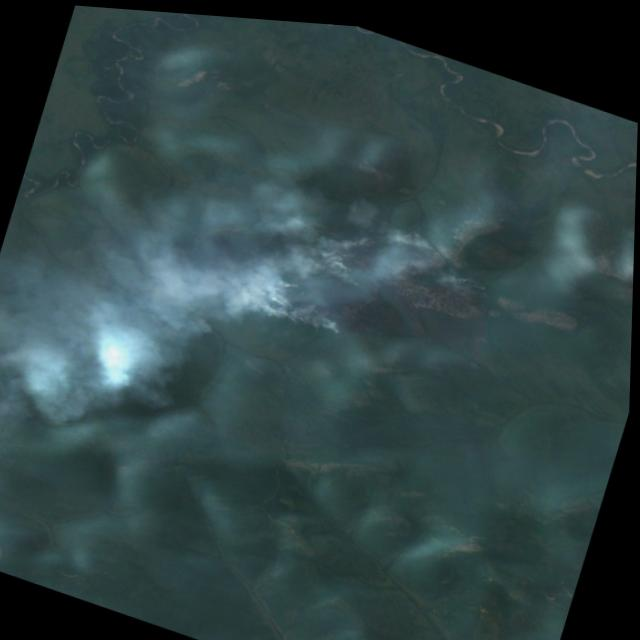fire: (258, 261, 356, 336), (313, 207, 386, 287), (380, 208, 445, 251)
